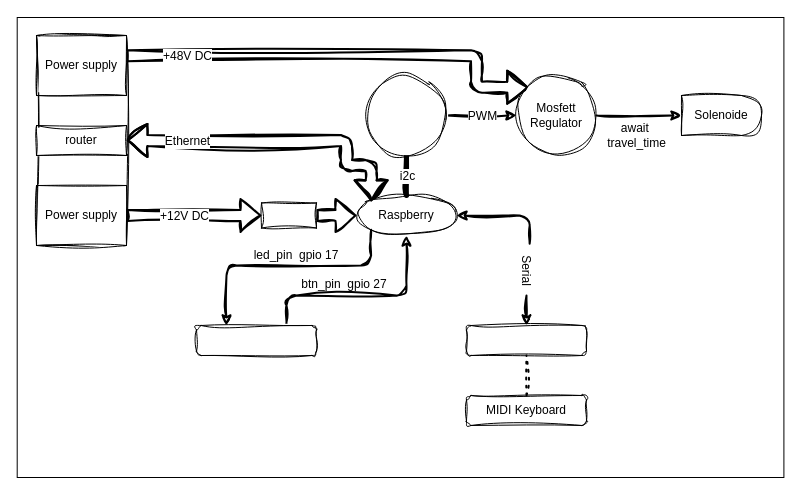
The diagram is 802 pixels wide and 495 high, and some of its shapes have lost their labels. The box of each missing label's shape, as (x1, y1, x2, y2) in pixels:
12V->5V: (260, 202, 316, 228)
PCA9685 shield: (366, 74, 446, 156)
Switch state button: (196, 324, 316, 356)
WaterProof USB: (466, 324, 586, 356)
